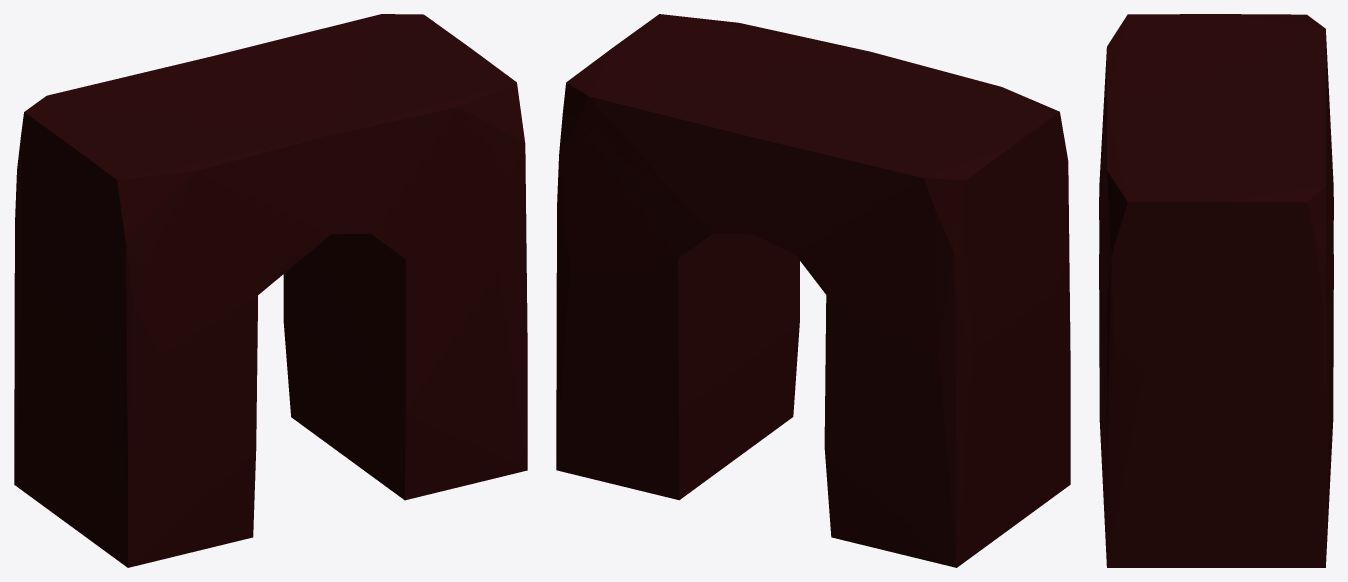
Rendered from UCX_Big_Castle_Entrance.fbx.
3 views of the same model, side by side, from view 1: azimuth 30°, elevation 25°; view 2: azimuth 150°, elevation 25°; view 3: azimuth 270°, elevation 25° (orthographic). The views are drawn at different scales.
Visible parts, largest first — view 1: UCX_Big_Castle_Entrance; view 2: UCX_Big_Castle_Entrance; view 3: UCX_Big_Castle_Entrance.
Boxes of the visible parts, bbox=[...] form: UCX_Big_Castle_Entrance: bbox=[14, 14, 527, 567]; UCX_Big_Castle_Entrance: bbox=[556, 14, 1070, 567]; UCX_Big_Castle_Entrance: bbox=[1099, 14, 1333, 567].
Size of the model in its own units: 959 by 863 by 498.
